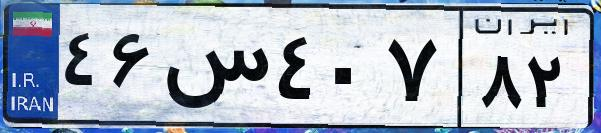0: (330, 28, 385, 110)
2: (525, 38, 570, 115)
4: (270, 28, 330, 110), (57, 26, 110, 100)
6: (110, 28, 158, 98)
7: (385, 28, 445, 110)
8: (475, 38, 525, 113)
س: (158, 20, 270, 120)
